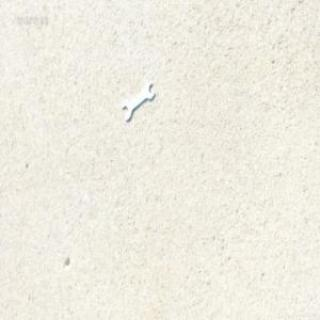Wrenchtrack_idkeyframe: (121, 82, 153, 120)
